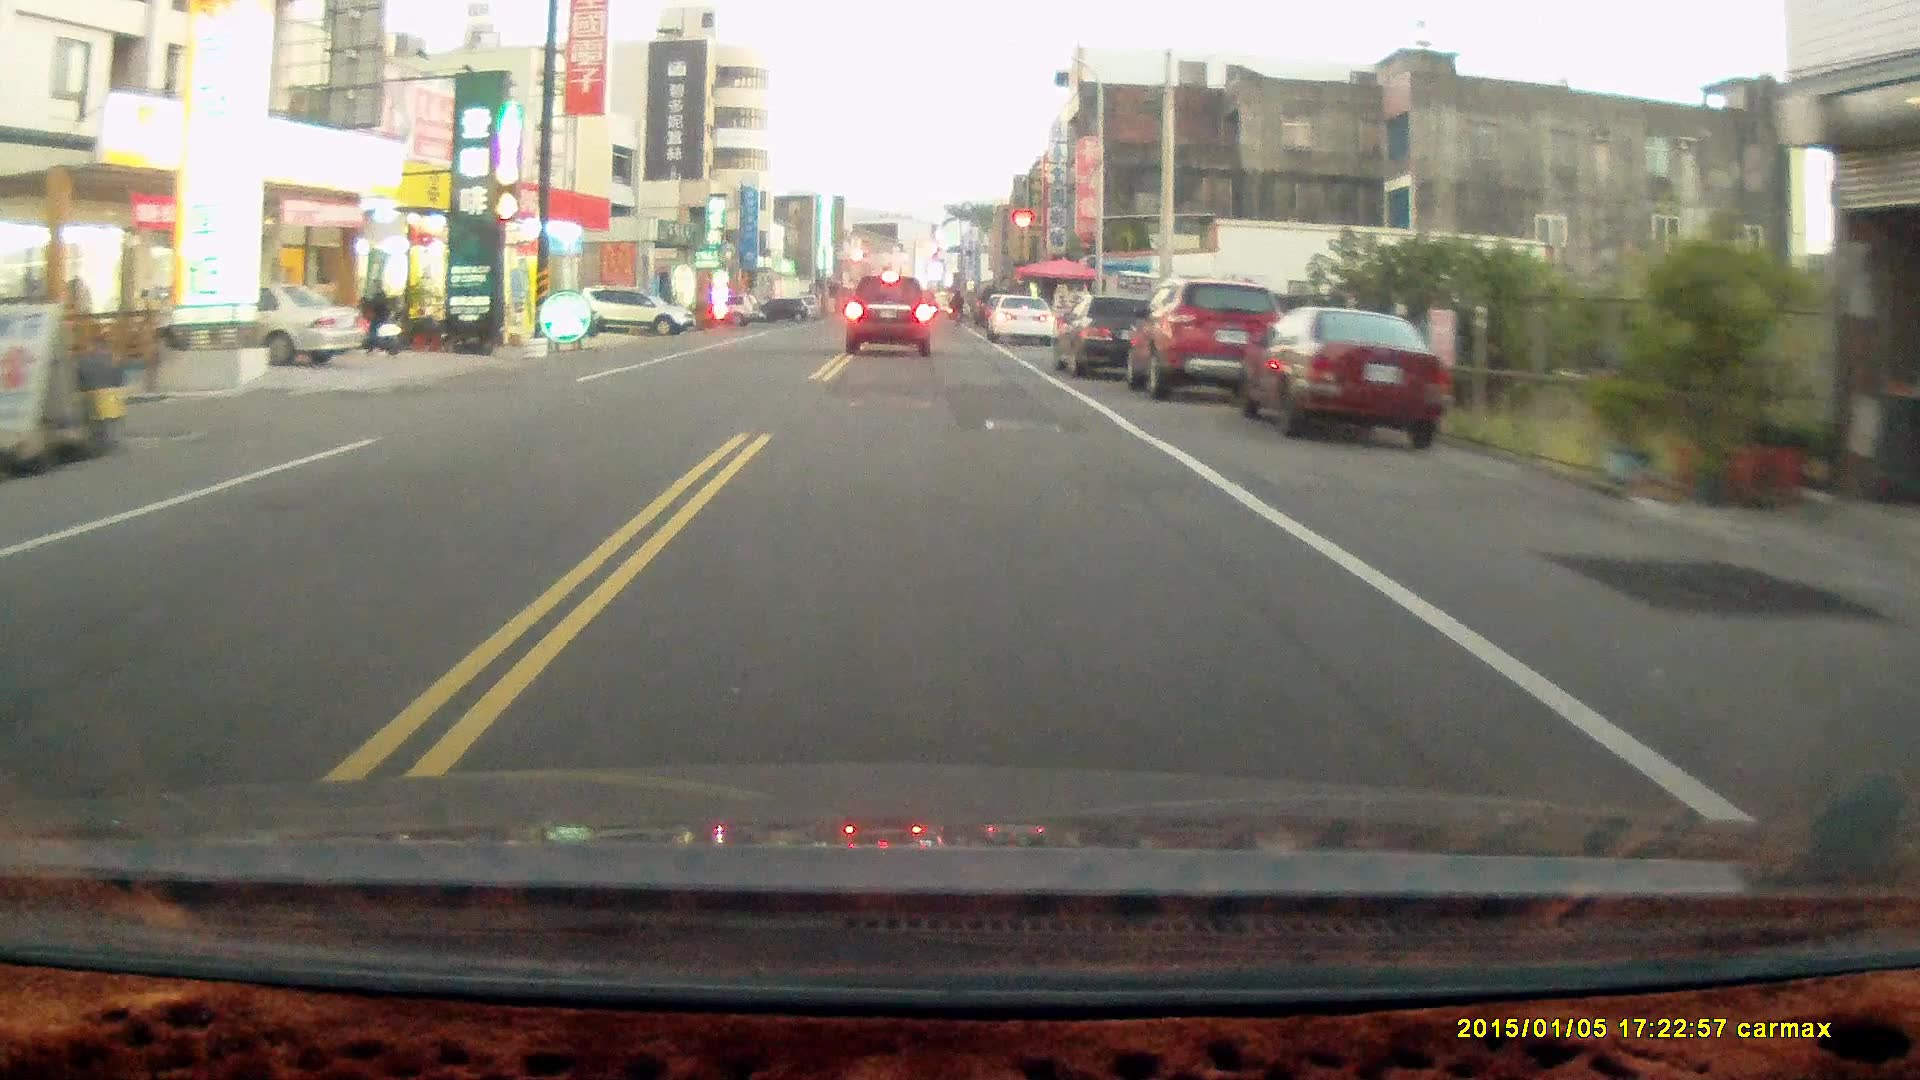vehicle: (1237, 301, 1456, 443), (1129, 276, 1294, 397), (154, 281, 365, 369), (1054, 294, 1178, 377), (844, 272, 938, 357), (579, 284, 694, 334), (988, 293, 1058, 348)
